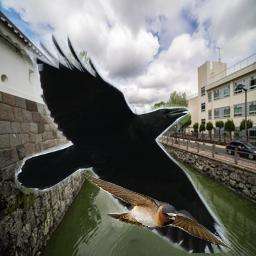Crow: (15, 30, 231, 253)
Swallow: (76, 168, 234, 250)
